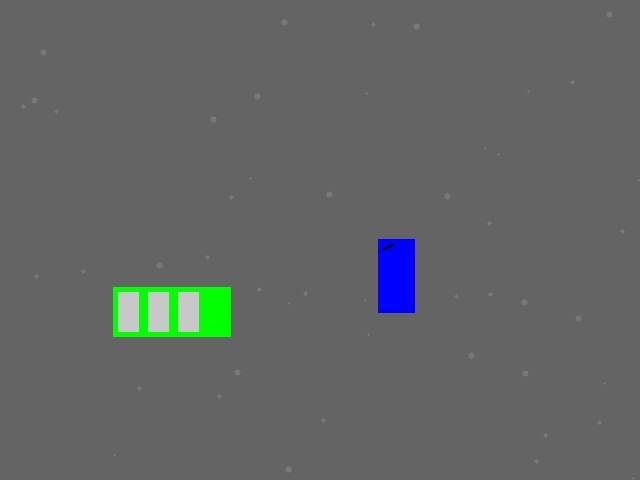bus: (113, 287, 230, 336)
motorcycle: (378, 239, 414, 312)
